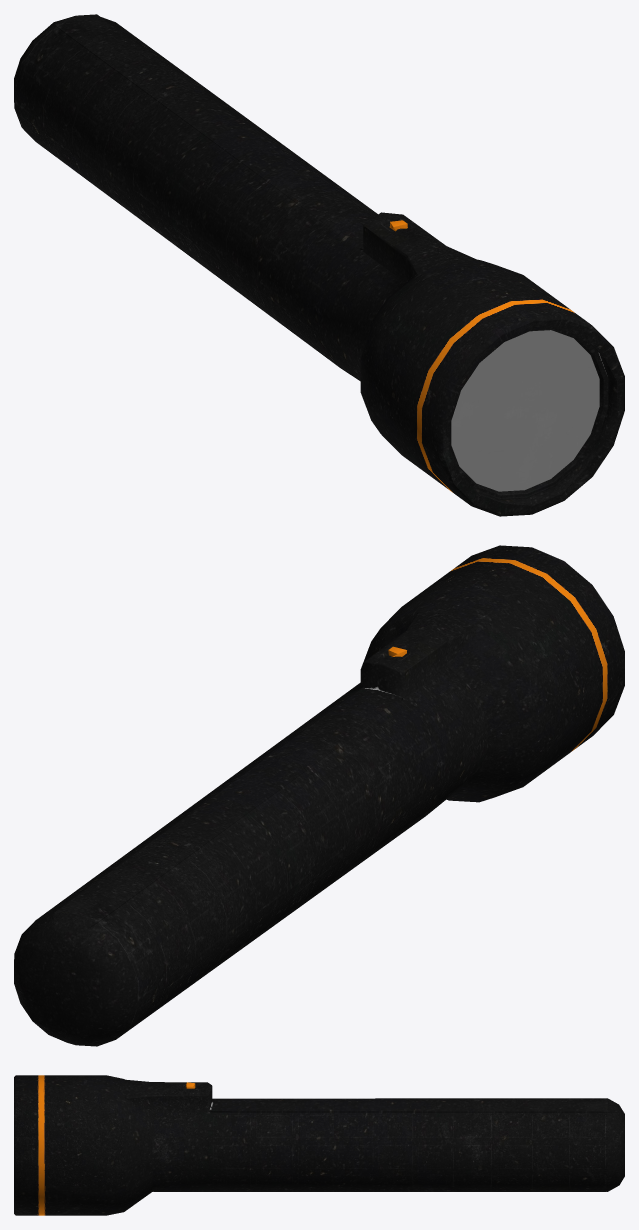
Rendered from FlashLight.fbx.
3 views of the same model, one above another, from view 1: azimuth 30°, elevation 25°; view 2: azimuth 150°, elevation 25°; view 3: azimuth 270°, elevation 25° (orthographic). The views are drawn at different scales.
Parts seen in each view (by area): view 1: fonarik_low_max; view 2: fonarik_low_max; view 3: fonarik_low_max.
Part boxes in pixels (x1,y1,x2,y2): fonarik_low_max: [14, 14, 624, 516]; fonarik_low_max: [14, 545, 624, 1046]; fonarik_low_max: [14, 1075, 624, 1215].
Bounding box in the file's own units: 65.44 × 66.43 × 288.
